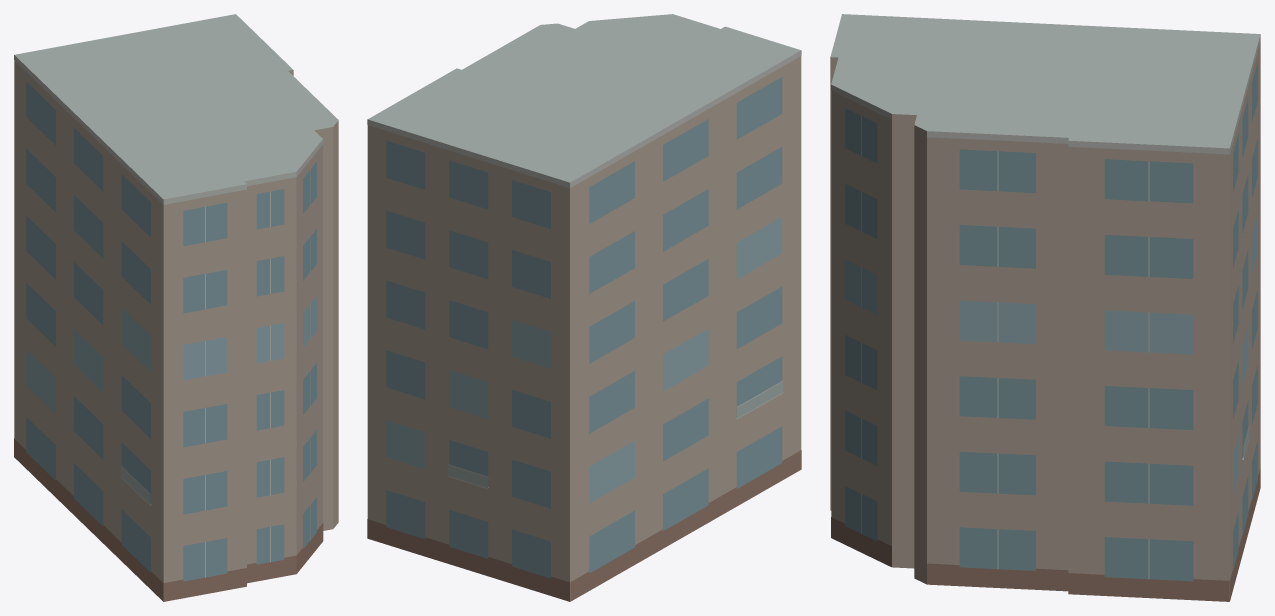
Rendered from survey-upis-32985333.glb.
The picture shows the model from 3 angles, left to right: view 1: azimuth 30°, elevation 25°; view 2: azimuth 150°, elevation 25°; view 3: azimuth 270°, elevation 25°; orthographic projection. The views are drawn at different scales.
Visible parts, largest first — view 1: survey-upis-32985333.tmp; view 2: survey-upis-32985333.tmp; view 3: survey-upis-32985333.tmp.
Boxes of the visible parts, <box> form: survey-upis-32985333.tmp: <box>14,14,338,601</box>; survey-upis-32985333.tmp: <box>367,14,801,601</box>; survey-upis-32985333.tmp: <box>830,14,1260,601</box>.
Size of the model in its own units: 11.71 by 18.4 by 15.83.
